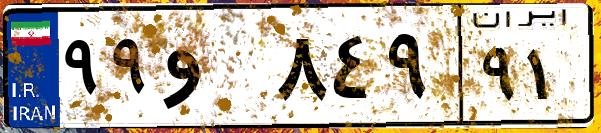1: (525, 38, 570, 115)
4: (330, 28, 385, 110)
8: (270, 28, 330, 110)
9: (385, 28, 445, 110), (57, 26, 110, 100), (475, 38, 525, 113), (110, 28, 158, 98)
و: (158, 20, 270, 120)
